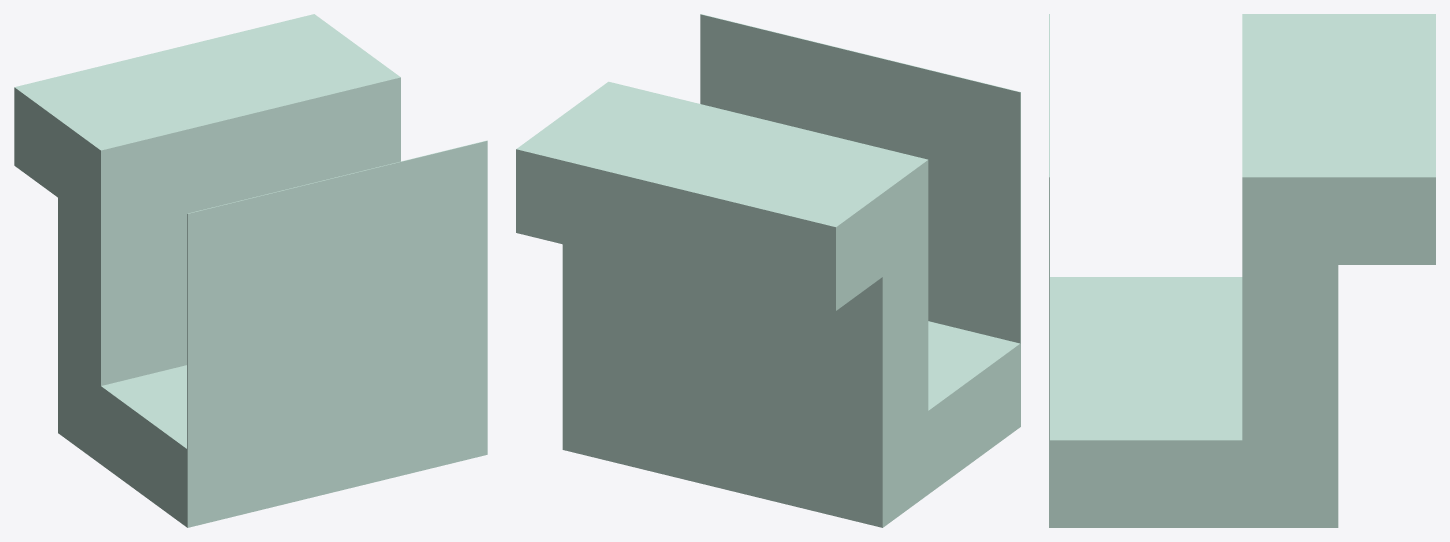
The picture shows the model from 3 angles, left to right: view 1: azimuth 30°, elevation 25°; view 2: azimuth 150°, elevation 25°; view 3: azimuth 270°, elevation 25°; orthographic projection. The views are drawn at different scales.
Visible parts, largest first — view 1: Renderer Node; view 2: Renderer Node; view 3: Renderer Node.
Part boxes in pixels (x1,y1,x2,y2): Renderer Node: (14,14,487,527); Renderer Node: (516,14,1020,527); Renderer Node: (1049,14,1435,527).
Size of the model in its own units: 0.75 by 0.75 by 0.75.
